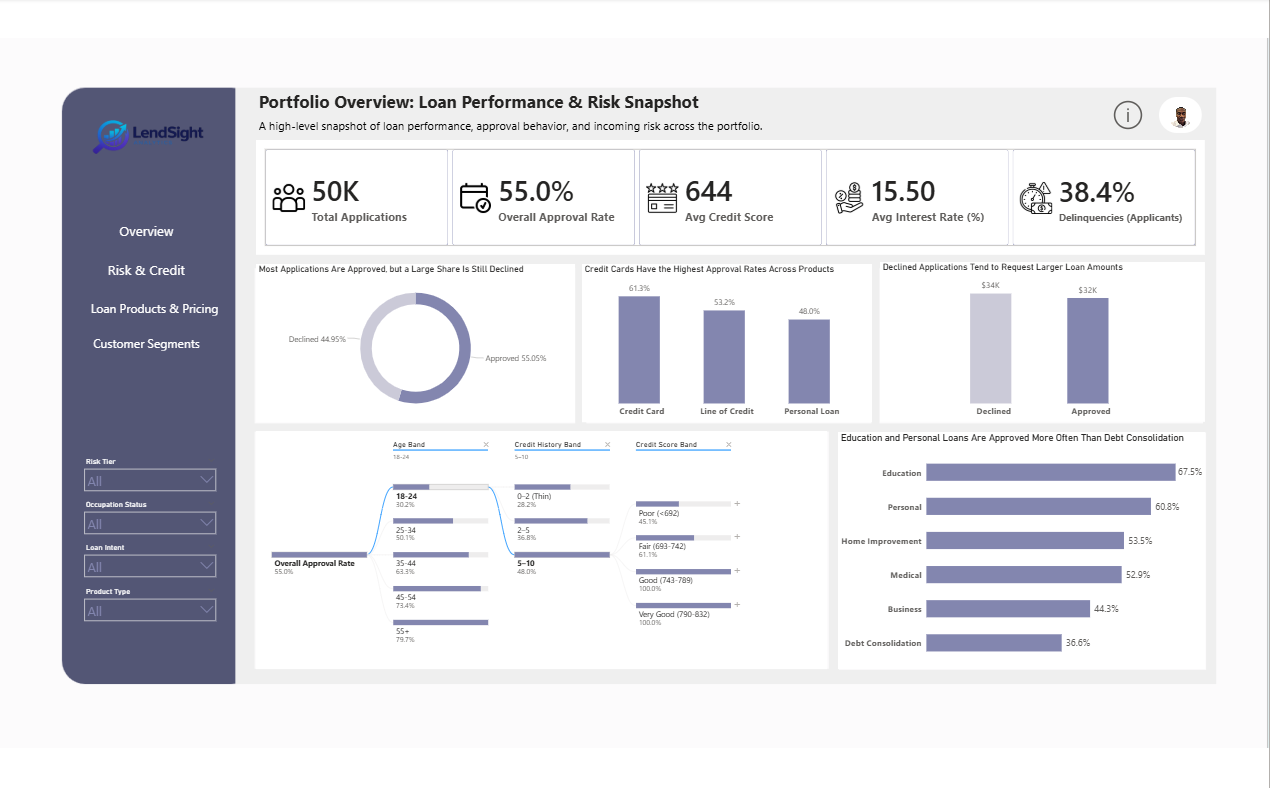

The page's visual inventory and layout, read from the dashboard file:
{"tool":"powerbi","page":{"name":"Overview","canvas":[2400,1500],"ordinal":0},"visuals":[{"type":"cardVisual","fields":{"Data":["Measure Table.Total Applications","Measure Table.Approval Rate %","Measure Table.Avg Credit Score","Measure Table.Avg Interest Rate","Measure Table.% With Delinquencies"]},"box":[485.7,268.3,1793.4,217.3],"z":0},{"type":"decompositionTreeVisual","fields":{"Analyze":["Measure Table.Overall Approval Rate"],"ExplainBy":["Loan_data.Age Band","Loan_data.Credit History Band","Loan_data.Credit Score Band","Loan_data.Employment Tenure Band","Loan_data.Has Default","Loan_data.DTI Band"]},"box":[485.7,818.3,1079.1,449.8],"z":1000},{"type":"clusteredBarChart","title":"Education and Personal Loans Are Approved More Often Than Debt Consolidation","fields":{"Category":["Loan_data.loan_intent"],"Y":["Measure Table.Approval Rate %"]},"box":[1585.5,820.2,693.5,447.9],"z":2000},{"type":"donutChart","title":"Most Applications Are Approved, but a Large Share Is Still Declined","fields":{"Y":["Measure Table.Total Applications"],"Category":["Loan_data.Loan Status"]},"box":[485.7,502.7,602.8,298.6],"z":3000},{"type":"clusteredColumnChart","title":"Credit Cards Have the Highest Approval Rates Across Products","fields":{"Category":["Loan_data.product_type"],"Y":["Measure Table.Approval Rate %"]},"box":[1101.7,502.7,548,298.6],"z":4000},{"type":"clusteredColumnChart","title":"Declined Applications Tend to Request Larger Loan Amounts","fields":{"Category":["Loan_data.Loan Status"],"Y":["Measure Table.Avg Loan Amount"]},"box":[1664.9,498.9,614.2,302.4],"z":5000},{"type":"slicer","fields":{"Values":["Loan_data.Risk Tier"]},"box":[151.7,861.3,269.3,82.2],"z":7000},{"type":"slicer","fields":{"Values":["Loan_data.occupation_status"]},"box":[151.7,943.5,269.3,80.8],"z":8000},{"type":"slicer","fields":{"Values":["Loan_data.loan_intent"]},"box":[151.7,1024.3,269.3,82.2],"z":9000},{"type":"slicer","fields":{"Values":["Loan_data.product_type"]},"box":[151.7,1106.5,269.3,80.8],"z":10000},{"type":"actionButton","box":[136.1,415.7,285.4,47.2],"z":11000},{"type":"actionButton","box":[136.1,485.7,285.4,52.9],"z":12000},{"type":"actionButton","box":[151.2,559.4,285.4,51],"z":13000},{"type":"actionButton","box":[136.1,625.5,285.4,51],"z":14000},{"type":"textbox","box":[485.7,168.2,899.5,71.8],"z":14001},{"type":"actionButton","box":[2099.5,187.1,69.9,68],"z":14002},{"type":"image","box":[2192.1,187.1,81.3,68],"z":14003},{"type":"image","box":[122.8,168.2,313.7,209.8],"z":14004},{"type":"textbox","box":[485.7,221.1,1164.1,49.1],"z":14005}]}

Visuals, with their boxes on the page's 2400x1500 design canvas (x1, y1, x2, y2). These are canvas units, not pixel positions in the 1270x788 screenshot, which may show the page scaled, cropped or inside an application window:
cardVisual - Measure Table.Total Applications x Measure Table.Approval Rate %: select_region(486, 268, 2279, 486)
decompositionTreeVisual - Measure Table.Overall Approval Rate x Loan_data.Age Band: select_region(486, 818, 1565, 1268)
"Education and Personal Loans Are Approved More Often Than Debt Consolidation" clusteredBarChart: select_region(1586, 820, 2279, 1268)
"Most Applications Are Approved, but a Large Share Is Still Declined" donutChart: select_region(486, 503, 1088, 801)
"Credit Cards Have the Highest Approval Rates Across Products" clusteredColumnChart: select_region(1102, 503, 1650, 801)
"Declined Applications Tend to Request Larger Loan Amounts" clusteredColumnChart: select_region(1665, 499, 2279, 801)
slicer - Loan_data.Risk Tier: select_region(152, 861, 421, 944)
slicer - Loan_data.occupation_status: select_region(152, 944, 421, 1024)
slicer - Loan_data.loan_intent: select_region(152, 1024, 421, 1106)
slicer - Loan_data.product_type: select_region(152, 1106, 421, 1187)
actionButton: select_region(136, 416, 422, 463)
actionButton: select_region(136, 486, 422, 539)
actionButton: select_region(151, 559, 437, 610)
actionButton: select_region(136, 626, 422, 676)
textbox: select_region(486, 168, 1385, 240)
actionButton: select_region(2100, 187, 2169, 255)
image: select_region(2192, 187, 2273, 255)
image: select_region(123, 168, 436, 378)
textbox: select_region(486, 221, 1650, 270)
